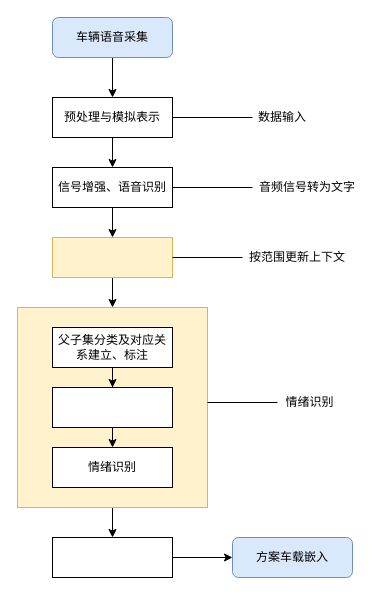
Some shapes in this 380 by 595 pixel diagram are drawn without their labels. Each missing label, with the centre of its shape:
"加入罚项训练模型" goes at (x=112, y=407).
"响应与互动决策方案" goes at (x=112, y=557).
"语音上下文感知处理" goes at (x=112, y=257).
